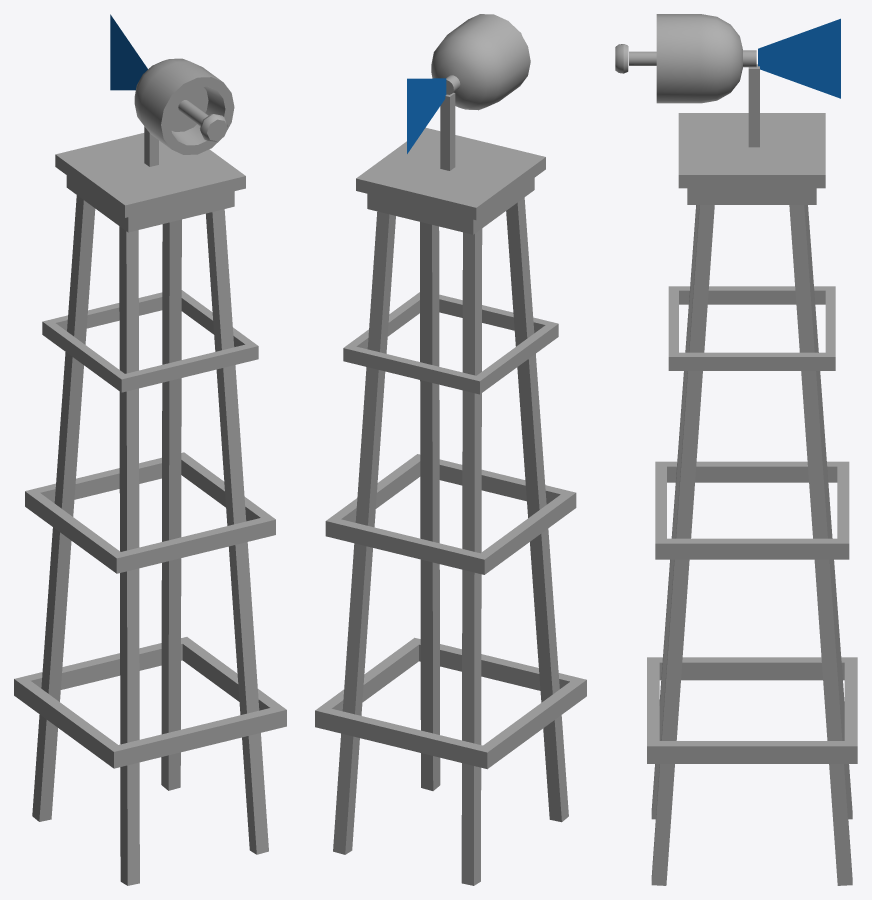
File: wind_l.fbx
The picture shows the model from 3 angles, left to right: view 1: azimuth 30°, elevation 25°; view 2: azimuth 150°, elevation 25°; view 3: azimuth 270°, elevation 25°; orthographic projection. The views are drawn at different scales.
Visible parts, largest first — view 1: Plane.004; view 2: Plane.004; view 3: Plane.004.
Boxes of the visible parts, left/top/right/bottom form: Plane.004: left=14, top=14, right=286, bottom=885; Plane.004: left=315, top=14, right=586, bottom=885; Plane.004: left=615, top=14, right=857, bottom=885.
Size of the model in its own units: 117 by 134 by 510.
